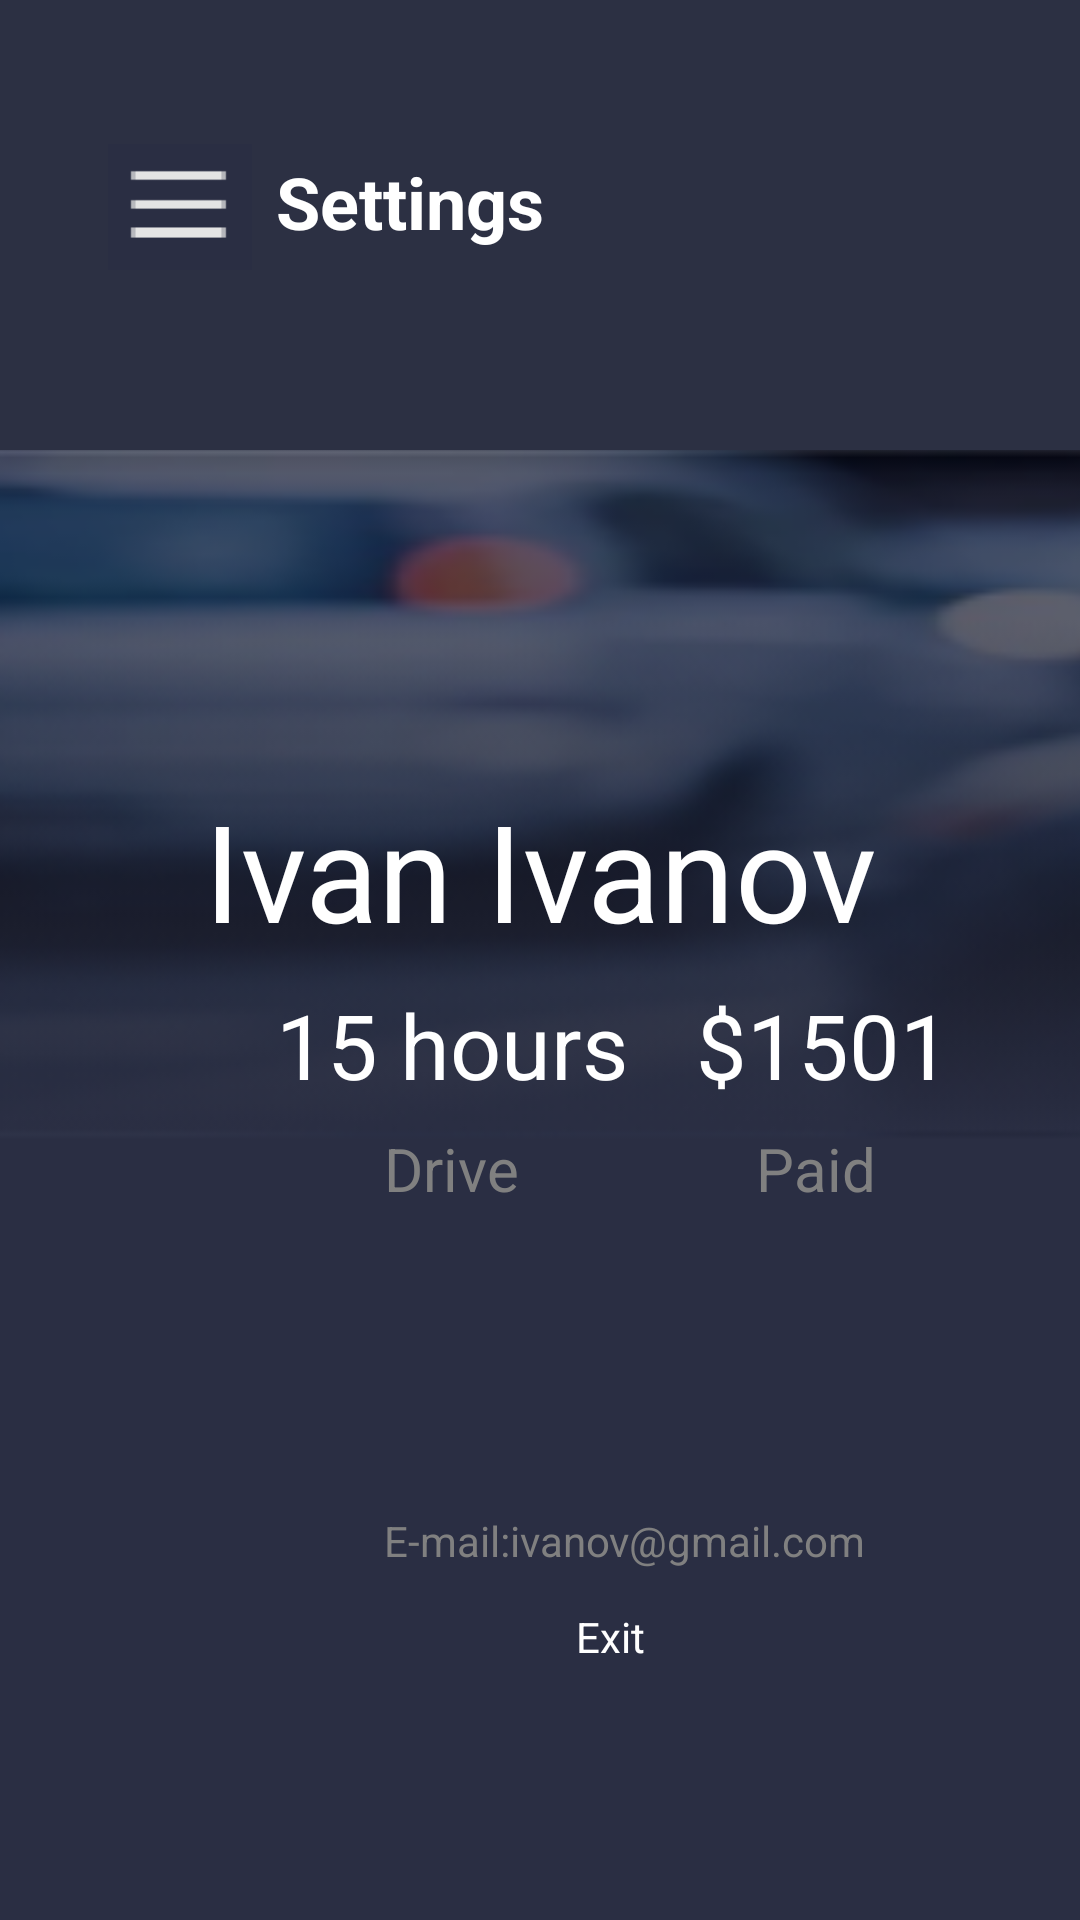

Where icons sit on this 1080x1920 app screen, as (x1=x1, y1=y1, x2=x2, y2=y2):
lines: (x1=130, y1=171, x2=226, y2=238)
